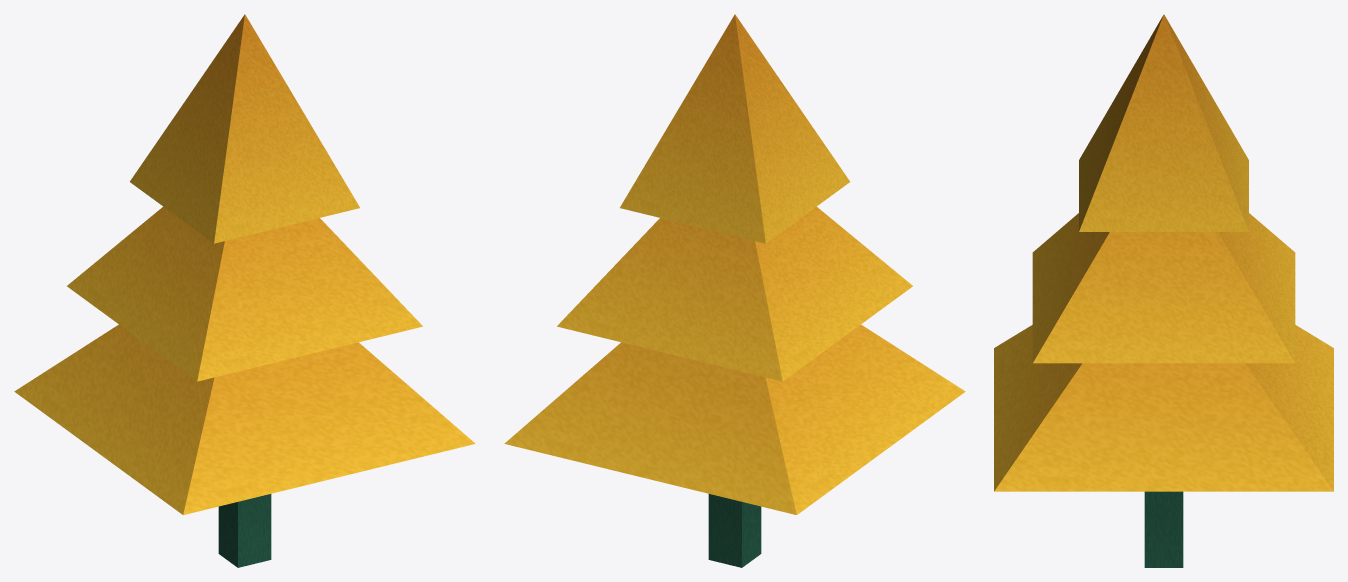
The model's file is tree_pine.gltf.
The picture shows the model from 3 angles, left to right: view 1: azimuth 30°, elevation 25°; view 2: azimuth 150°, elevation 25°; view 3: azimuth 270°, elevation 25°; orthographic projection.
Parts seen in each view (by area): view 1: tree_pine; view 2: tree_pine; view 3: tree_pine.
Boxes of the visible parts, x1,y1,x2,y2 form: tree_pine: (14, 14, 475, 567); tree_pine: (504, 14, 965, 567); tree_pine: (994, 14, 1333, 567).
Size of the model in its own units: 4.4 by 7.8 by 4.4.
Materials: 1 (1 with a texture image).
